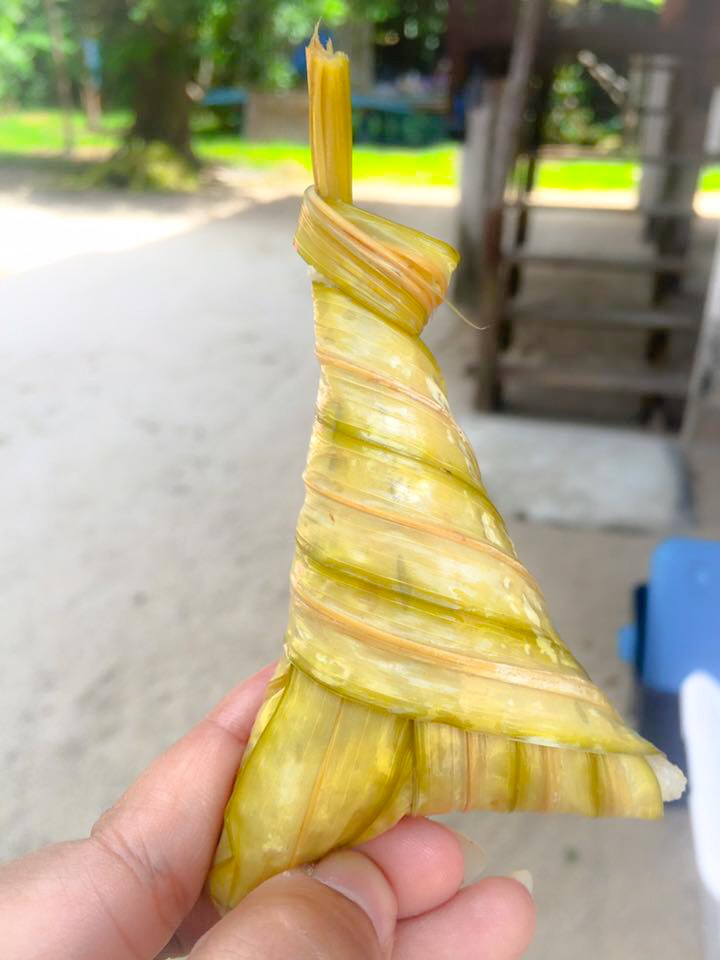kanomtom: (182, 31, 700, 916)
